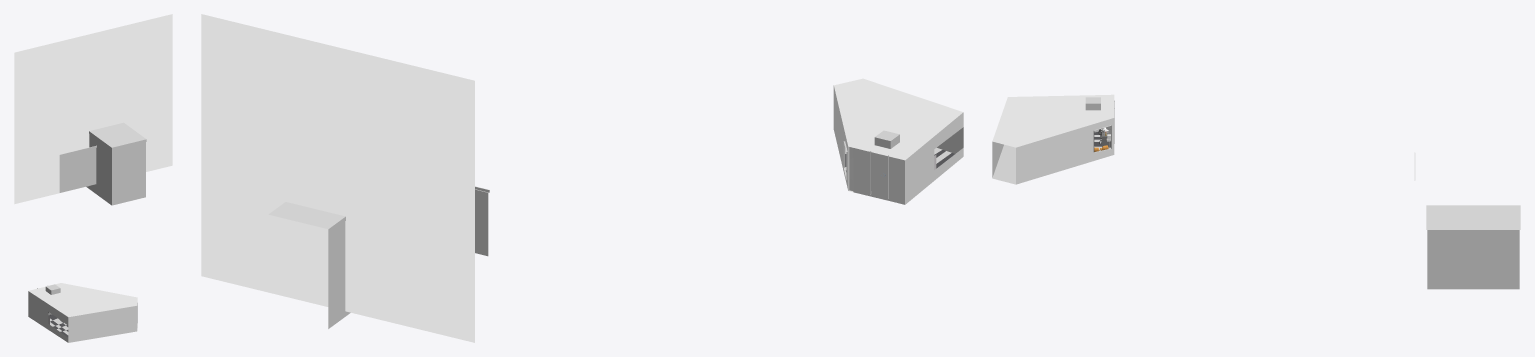
The model's file is Laundromat_24_ad.glb.
3 renders of one model, left to right at view 1: azimuth 30°, elevation 25°; view 2: azimuth 150°, elevation 25°; view 3: azimuth 270°, elevation 25°, orthographic. The views are drawn at different scales.
Parts seen in each view (by area): view 1: Sky, Building, BG Building.001, BG Building; view 2: Sky, Building, BG Building.001, BG Building; view 3: Building, BG Building.001.
Boxes of the visible parts, bbox=[...] form: Sky: bbox=[14, 14, 172, 204]; Building: bbox=[28, 283, 137, 342]; BG Building.001: bbox=[86, 122, 146, 205]; BG Building: bbox=[59, 145, 96, 192]; Sky: bbox=[201, 14, 474, 342]; Building: bbox=[833, 78, 963, 204]; BG Building.001: bbox=[268, 202, 350, 328]; BG Building: bbox=[475, 186, 489, 256]; Building: bbox=[992, 94, 1114, 184]; BG Building.001: bbox=[1426, 205, 1520, 289].
Bounding box in the file's own units: 40.93 × 21.98 × 47.26.
Materials: 24 (2 with a texture image).
